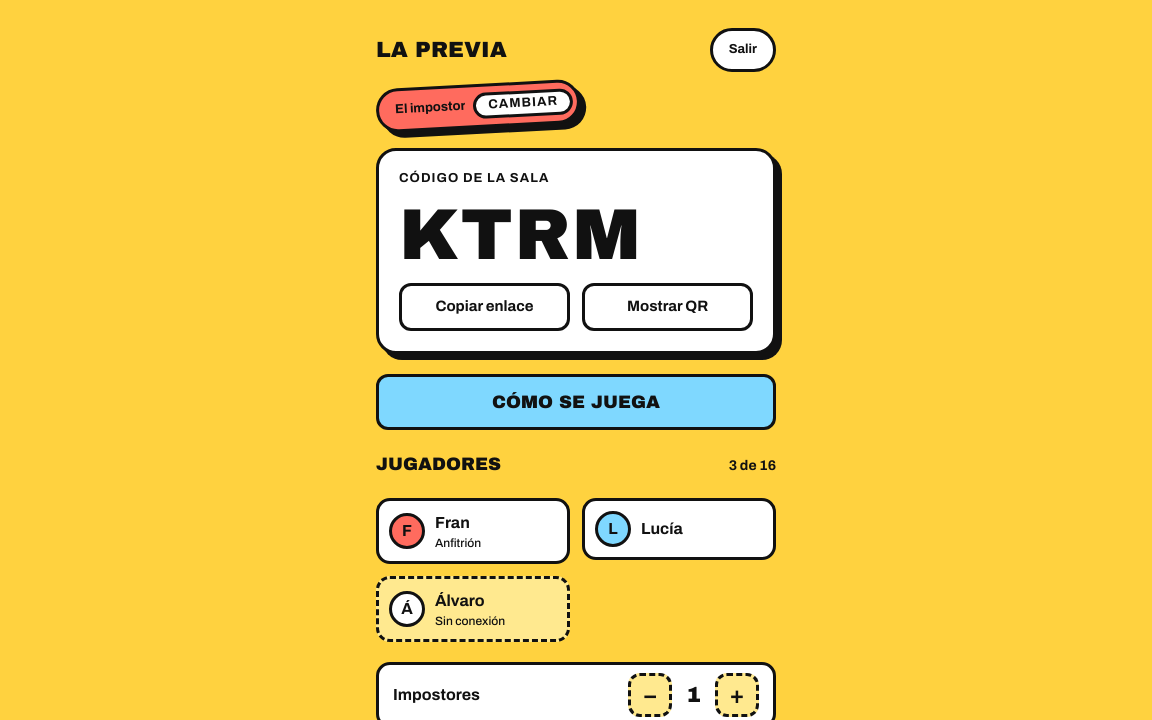
Scenario: Room › si no puede echar, lo explica sin códigos técnicos
This screenshot has width=1152, height=720.
What coordinates should you click on to do the following:
click the button with aria-label "Echar a Lucía"
I would click on:
 (679, 529)
Its box is [582,498,776,560].
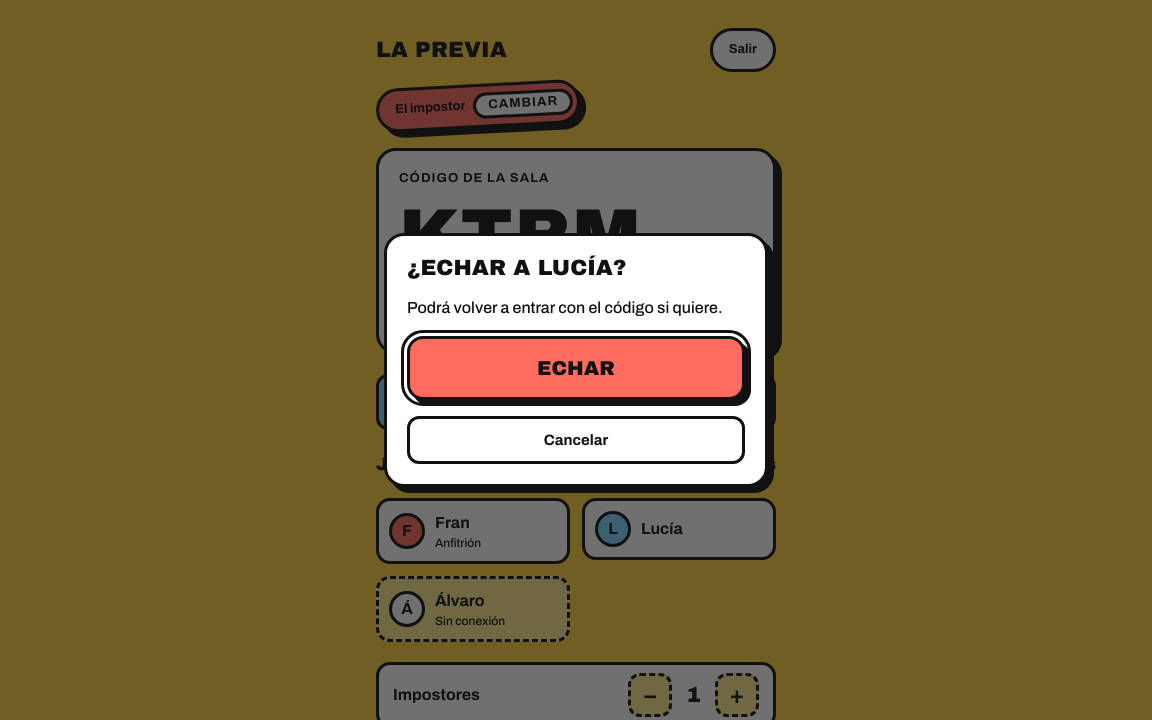
What coordinates should you click on to do the following:
click the button "Echar"
I would click on:
 (576, 368)
Its box is [407,336,745,400].
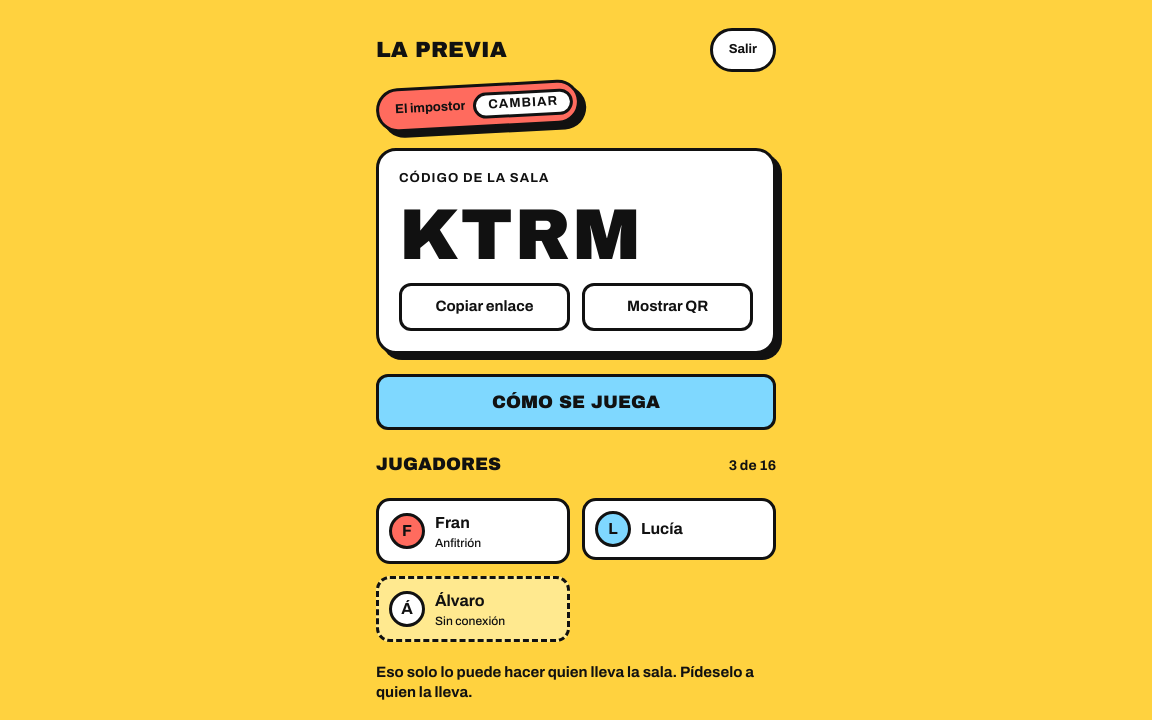
Check: the message shows "Eso solo lo puede hacer quien lleva la sala.", box [376,664,754,700]
